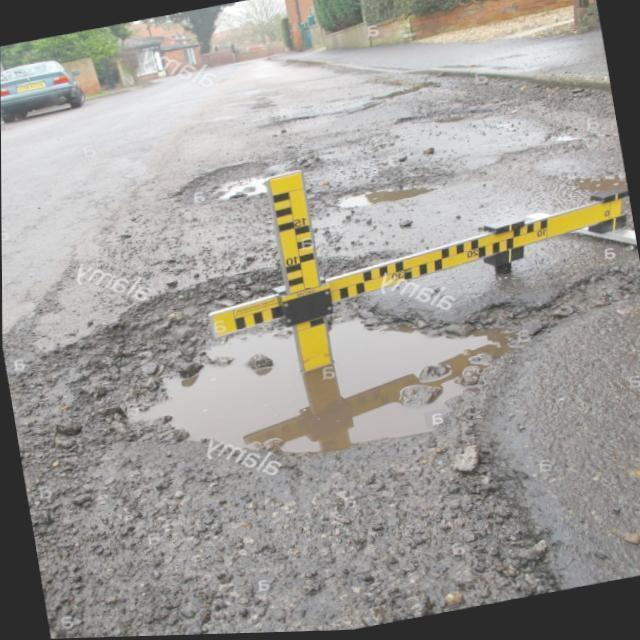Pothole: (7, 274, 623, 639), (184, 158, 297, 201), (319, 182, 433, 212)
